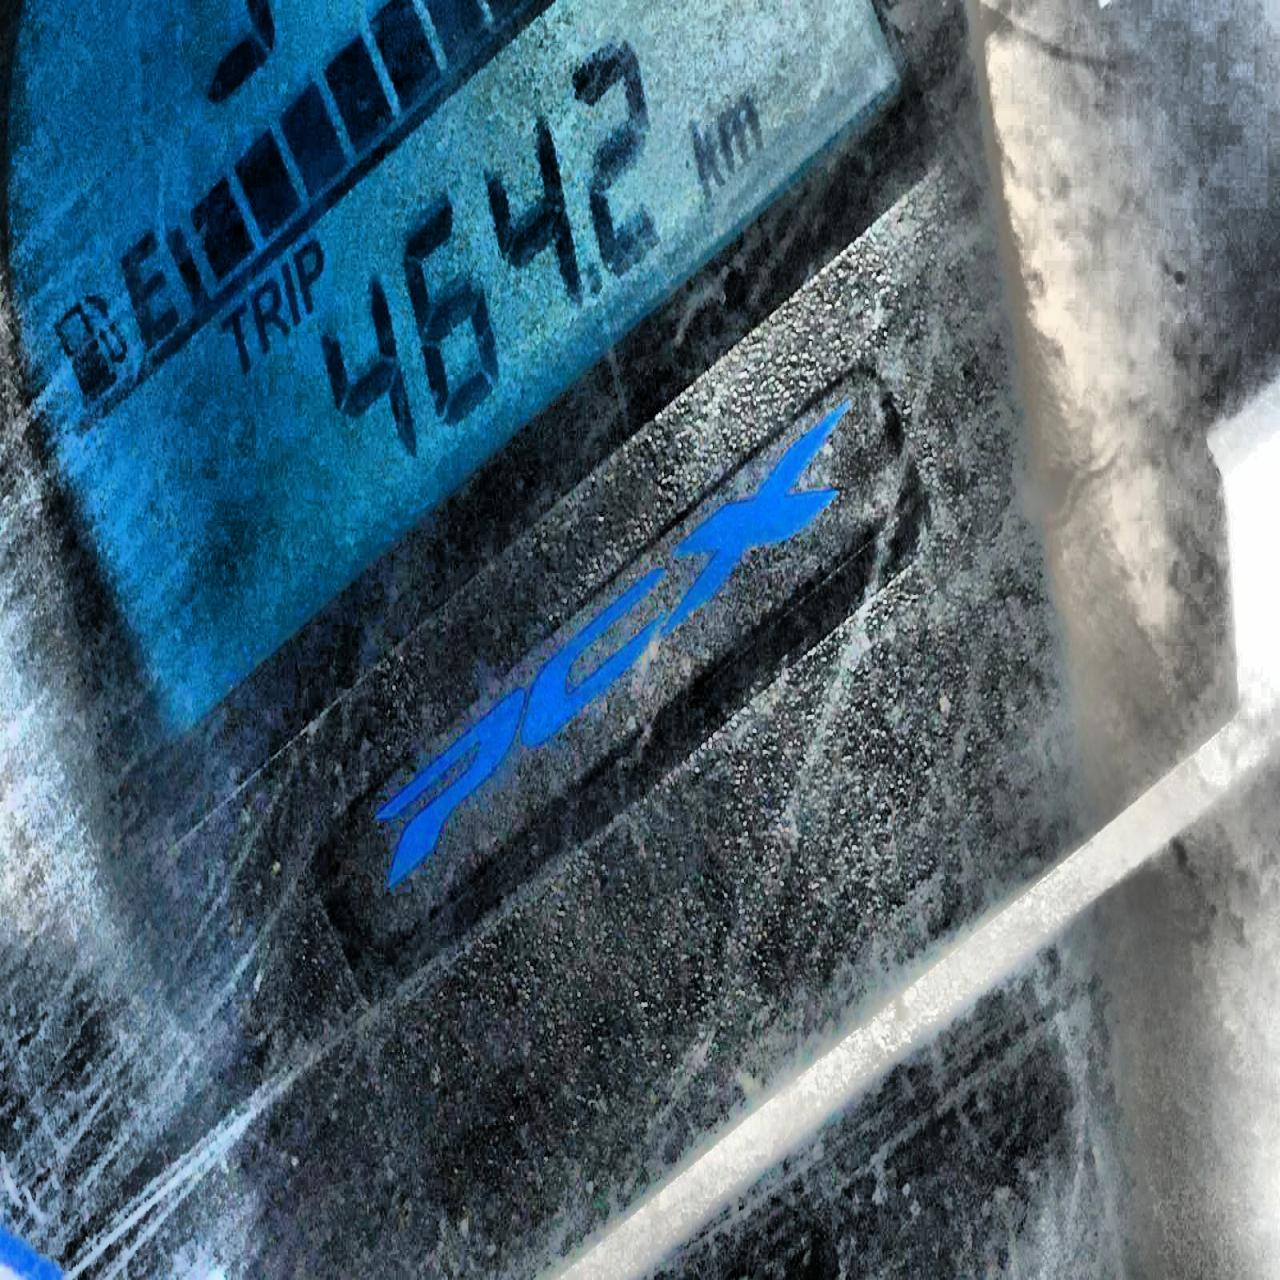-: (583, 250, 606, 306)
2: (574, 26, 663, 268)
4: (485, 122, 583, 309), (325, 281, 415, 472)
6: (397, 190, 504, 455)
X: (109, 223, 178, 352), (685, 113, 729, 203), (714, 94, 764, 166), (248, 273, 287, 353), (217, 304, 256, 374), (295, 237, 331, 313), (279, 251, 302, 335)
odometer: (0, 0, 906, 765)
